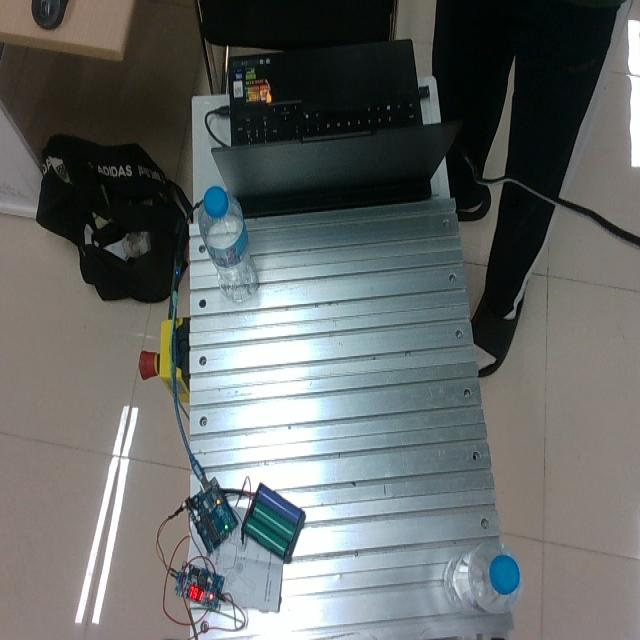lavie: (199, 184, 259, 304), (444, 539, 522, 613)
